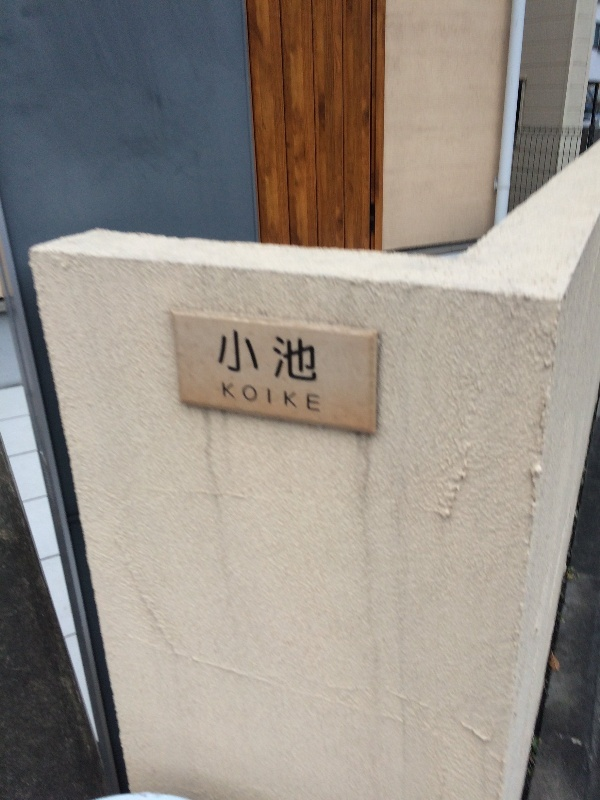text: (225, 328, 240, 389), (241, 328, 256, 389), (257, 328, 272, 389), (273, 328, 288, 389), (289, 328, 304, 389), (305, 328, 318, 389), (305, 379, 321, 417), (225, 379, 240, 417), (241, 379, 256, 417), (257, 379, 272, 417), (273, 379, 288, 417), (289, 379, 304, 417), (219, 328, 224, 389), (221, 379, 224, 417)
